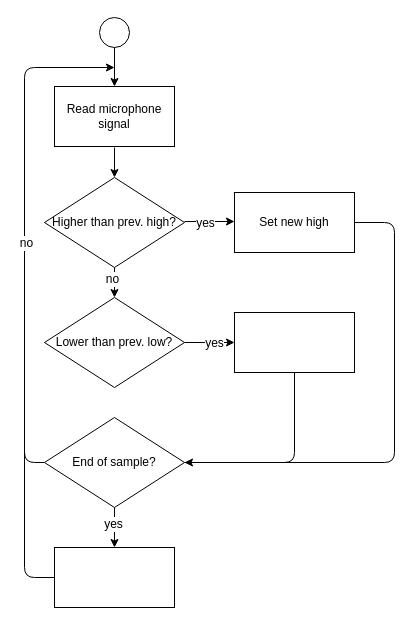
Some shapes in this 413 by 625 pixel diagram are drawn without their labels. The shapes that lost their labels are listed below. From the top down, each one's centre as x and y in pixels, then its label:
At (114,32): "Start".
At (294,342): "Set new low".
At (114,577): "Send difference between high and low to DAC".
